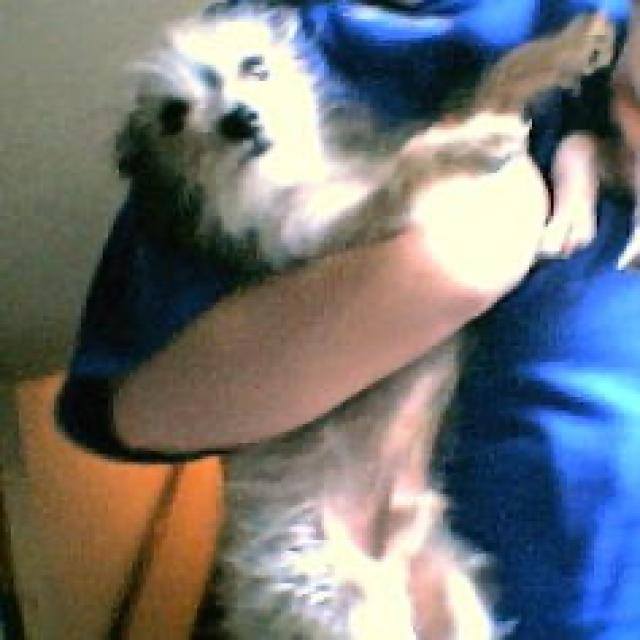dog: (114, 0, 318, 192)
